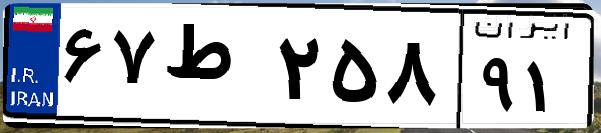1: (525, 38, 570, 115)
2: (270, 28, 330, 110)
5: (330, 28, 385, 110)
6: (57, 26, 110, 100)
7: (110, 28, 158, 98)
8: (385, 28, 445, 110)
9: (475, 38, 525, 113)
ط: (158, 20, 270, 120)
